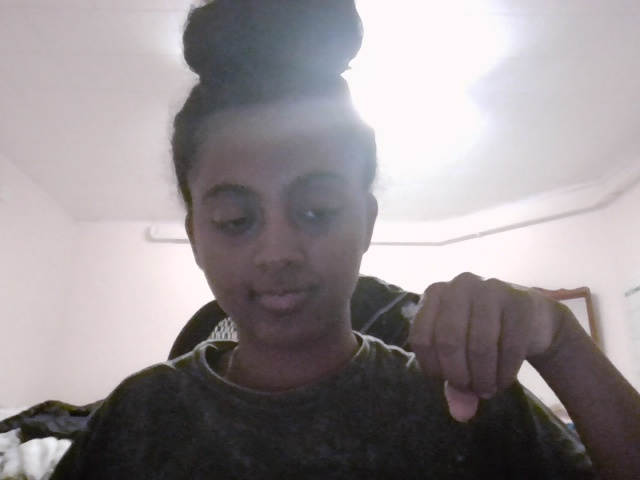Yes: (403, 261, 561, 431)
